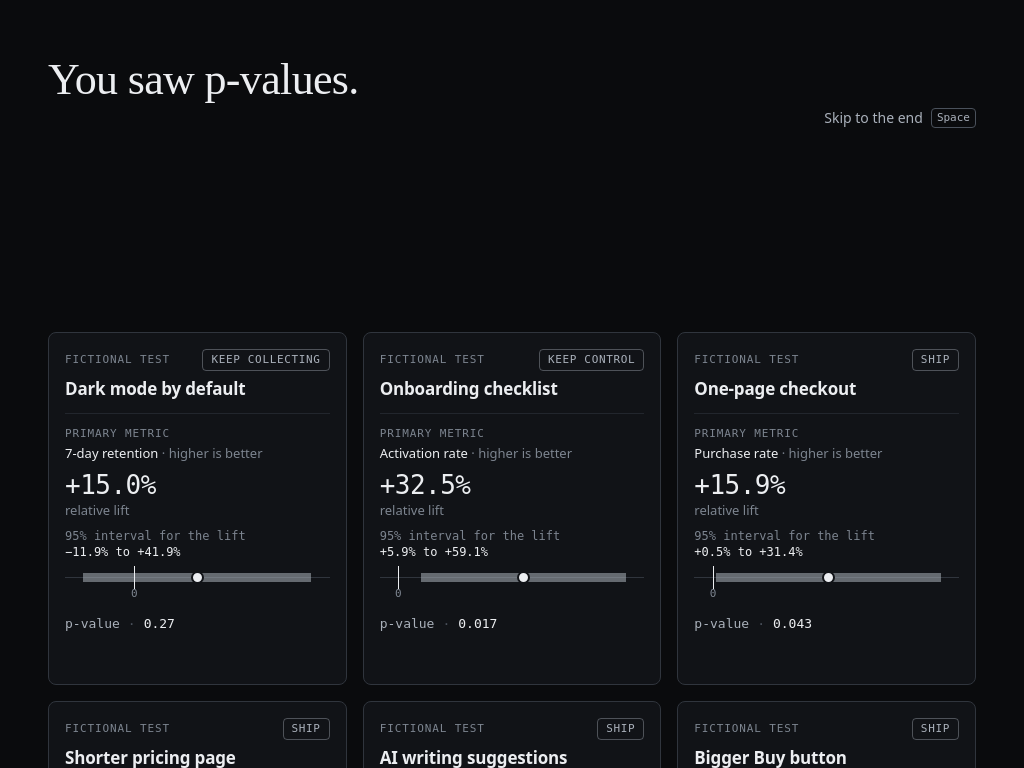
Test: the flip, measured › the Skip button does the same; after the end, Enter no longer skips (it belongs to the buttons)
The width and height of the screenshot is (1024, 768).
Later steps or results of the test are not shown.
Click the button "Skip to the end Space" at [900, 118], box [824,96,976,140]
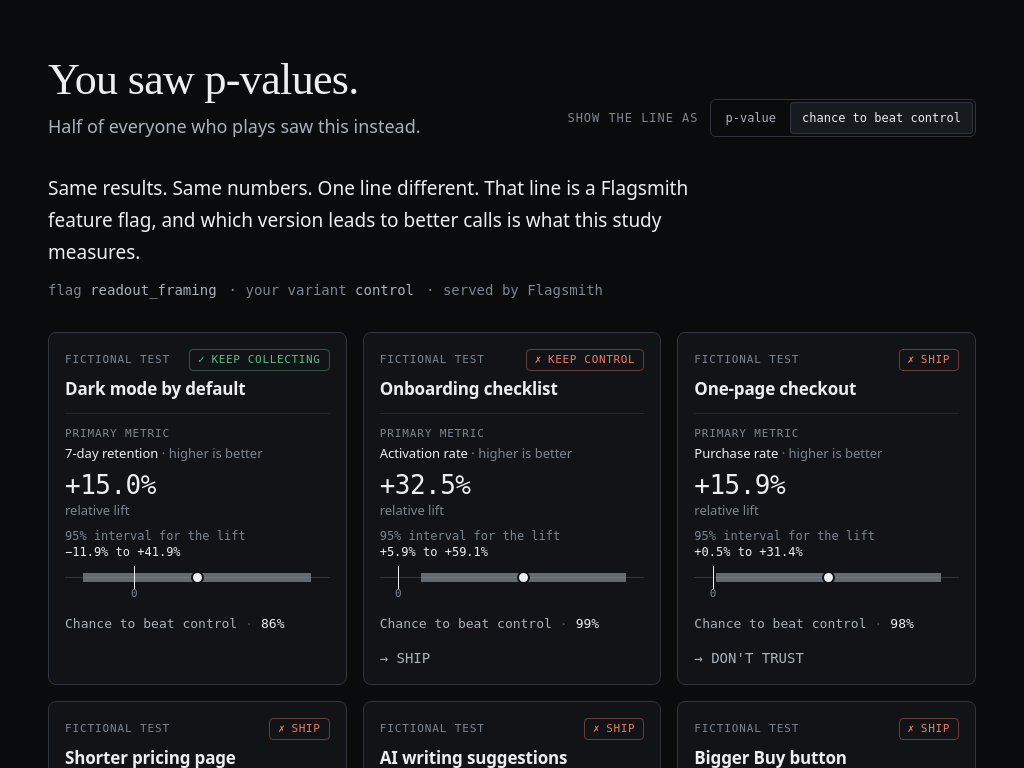
Expected: the element showing "p-value chance to beat control" is shown, [710,99,976,137]
